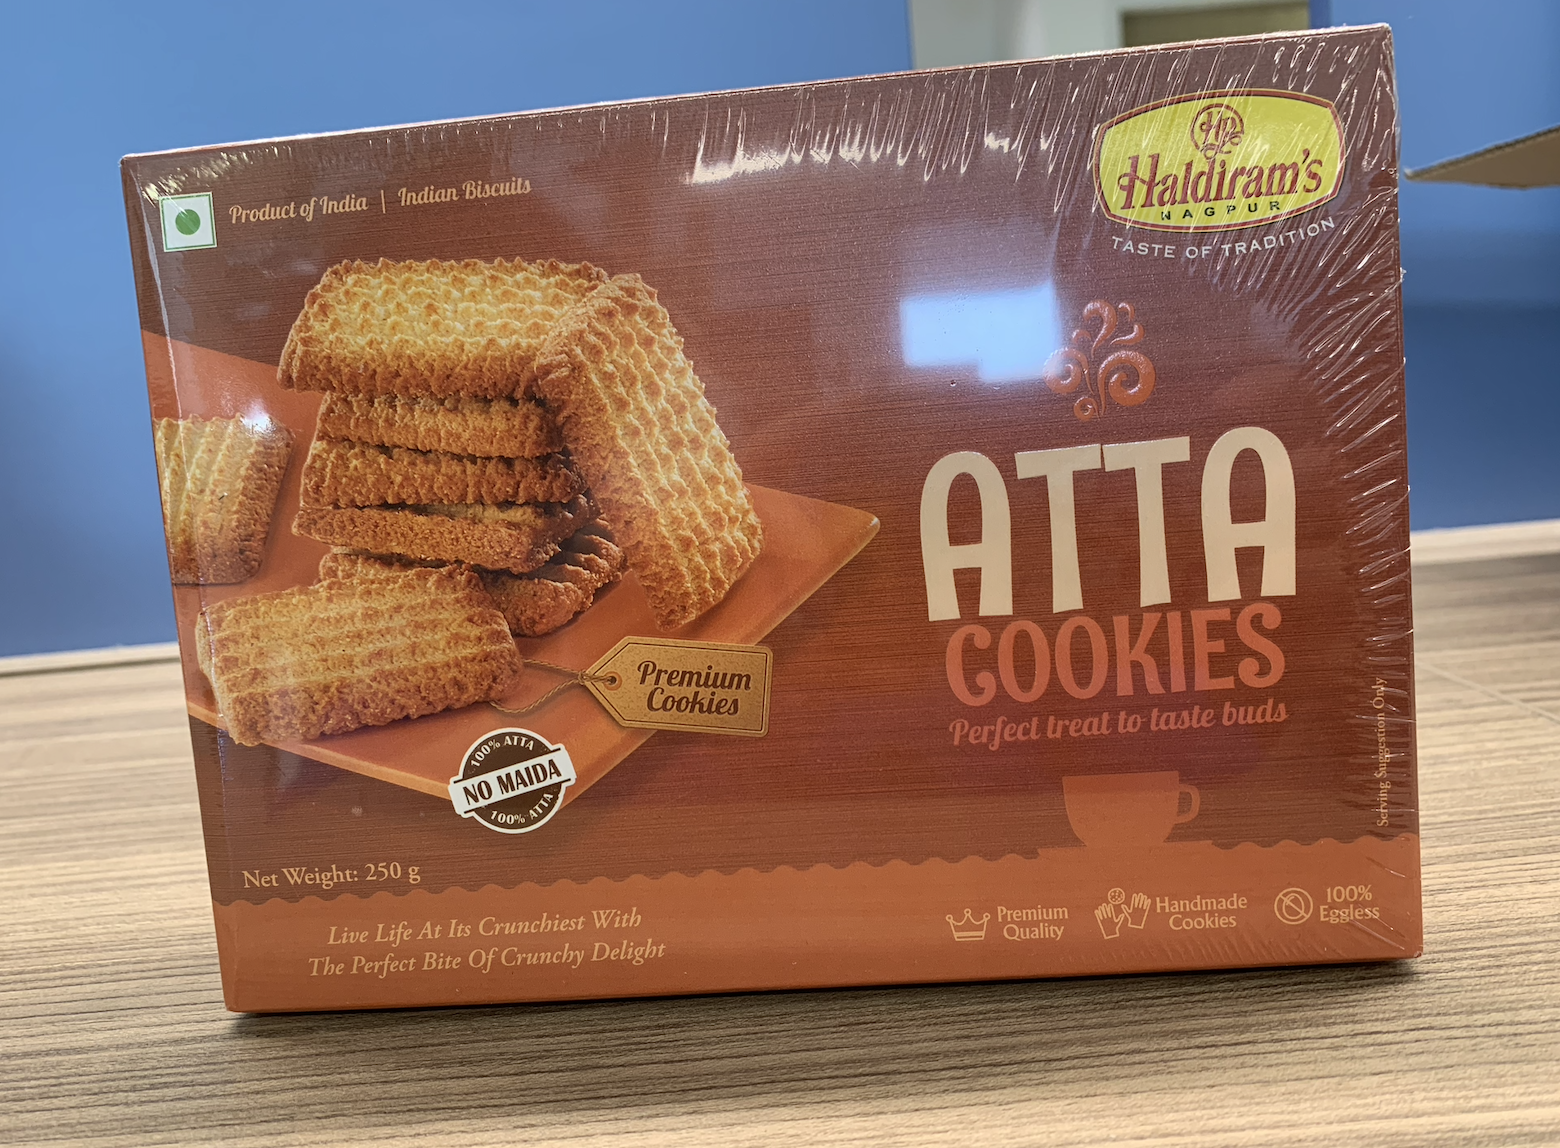cookies_200g-299g: (216, 156, 1386, 934)
